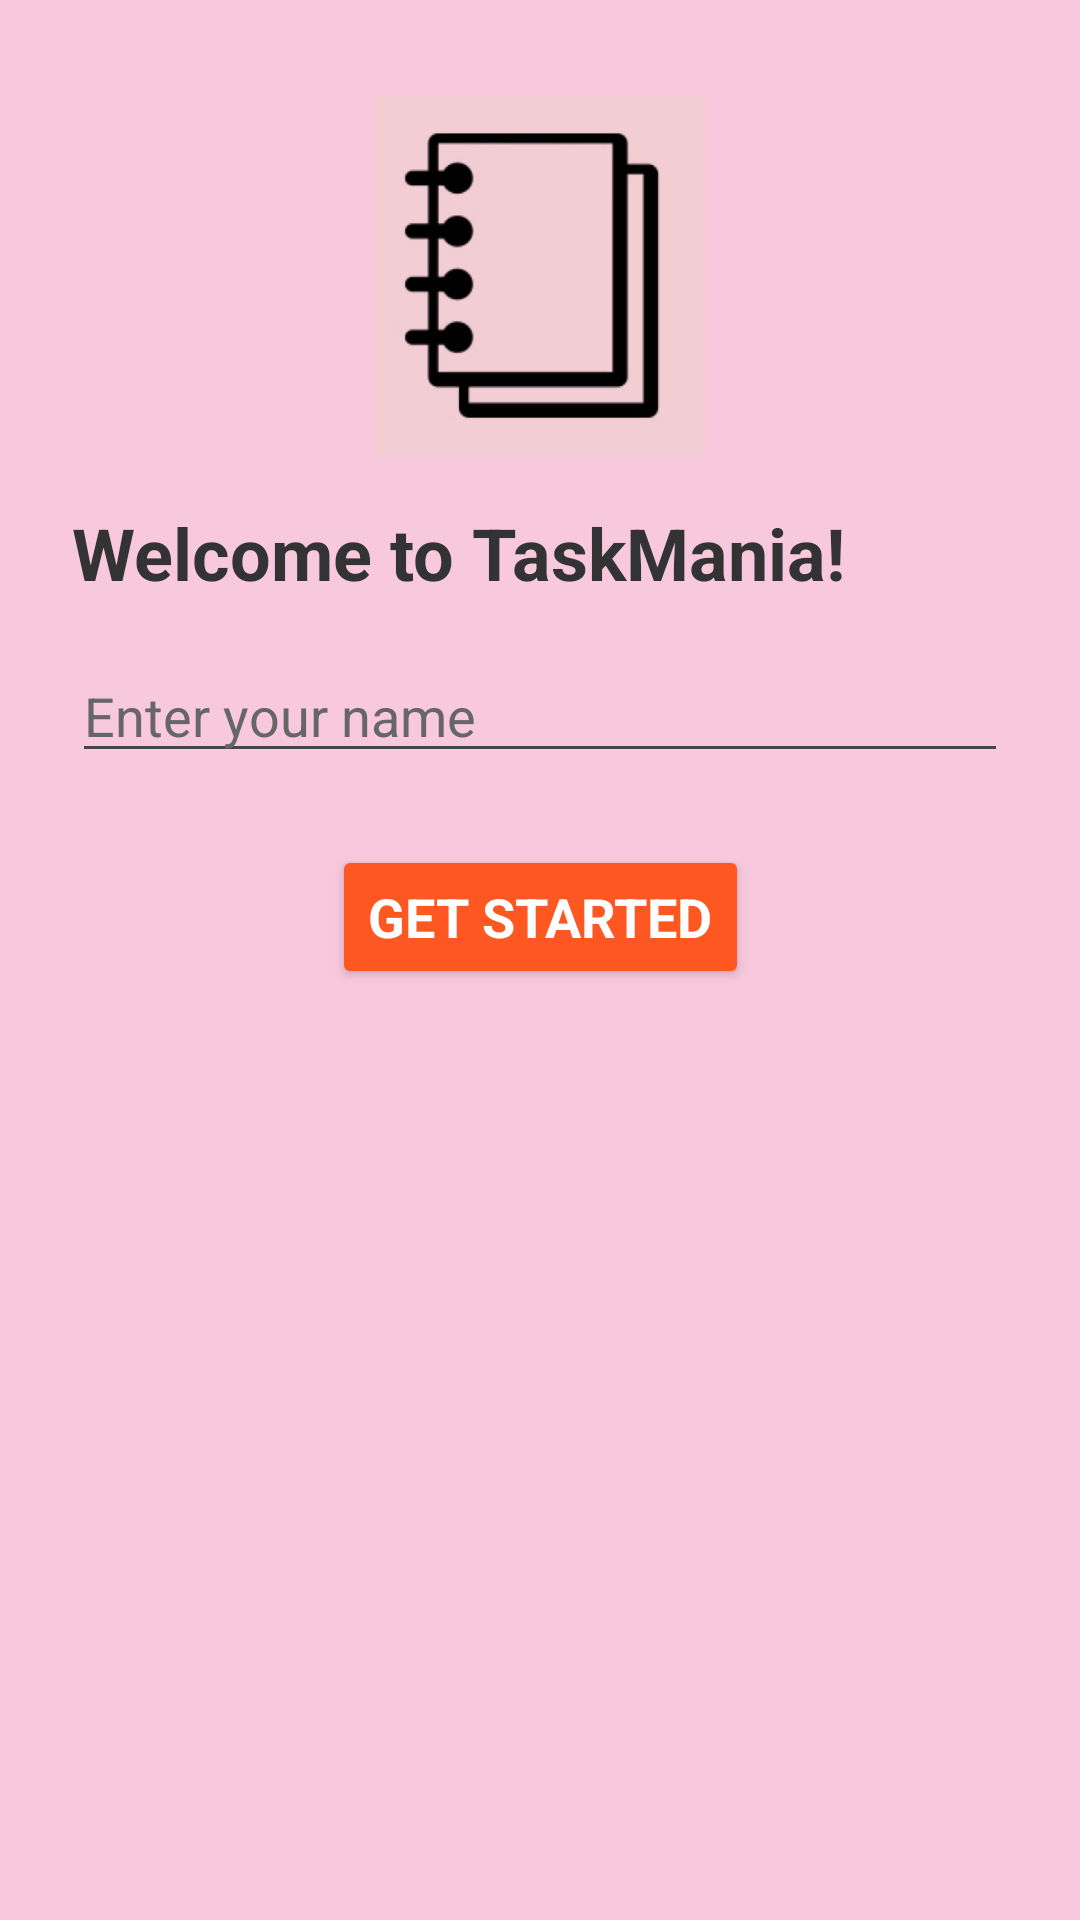

Icons on this 1080*1920 Android screen, each with the point to tap as point (x, y):
note: point (532, 276)
